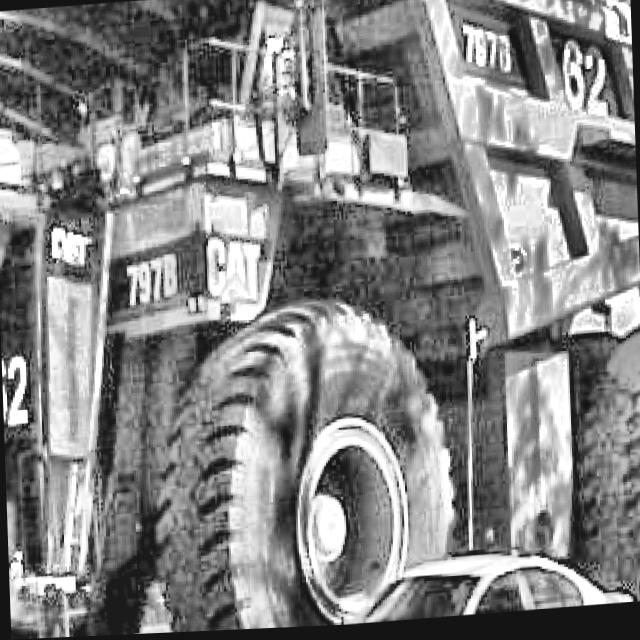dump_truck: (0, 0, 640, 640)
light_vehicle: (220, 524, 640, 632)
